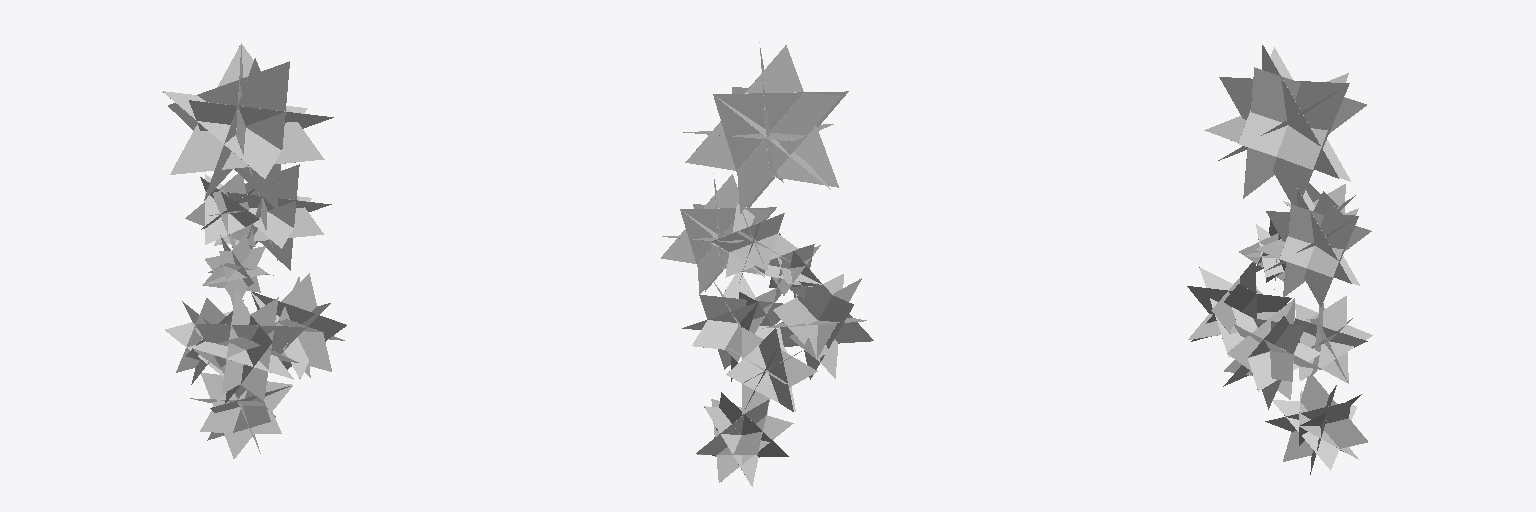
Rendered from RhodeTree4-Leaves.obj.
3 views of the same model, side by side, from view 1: azimuth 30°, elevation 25°; view 2: azimuth 150°, elevation 25°; view 3: azimuth 270°, elevation 25° (orthographic).
Parts seen in each view (by area): view 1: Plane.008_Circle.018; view 2: Plane.008_Circle.018; view 3: Plane.008_Circle.018.
Part boxes in pixels (left/top/right/bottom): Plane.008_Circle.018: left=162, top=43, right=346, bottom=458; Plane.008_Circle.018: left=661, top=42, right=873, bottom=486; Plane.008_Circle.018: left=1187, top=45, right=1372, bottom=474.
Bounding box in the file's own units: 18.63 × 44.6 × 18.21.